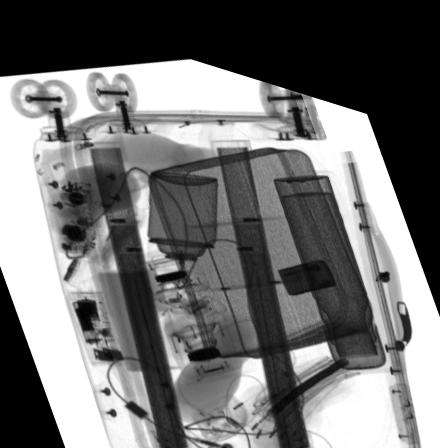Lighter: (276, 238, 337, 275)
Sprayer: (145, 161, 219, 262)
